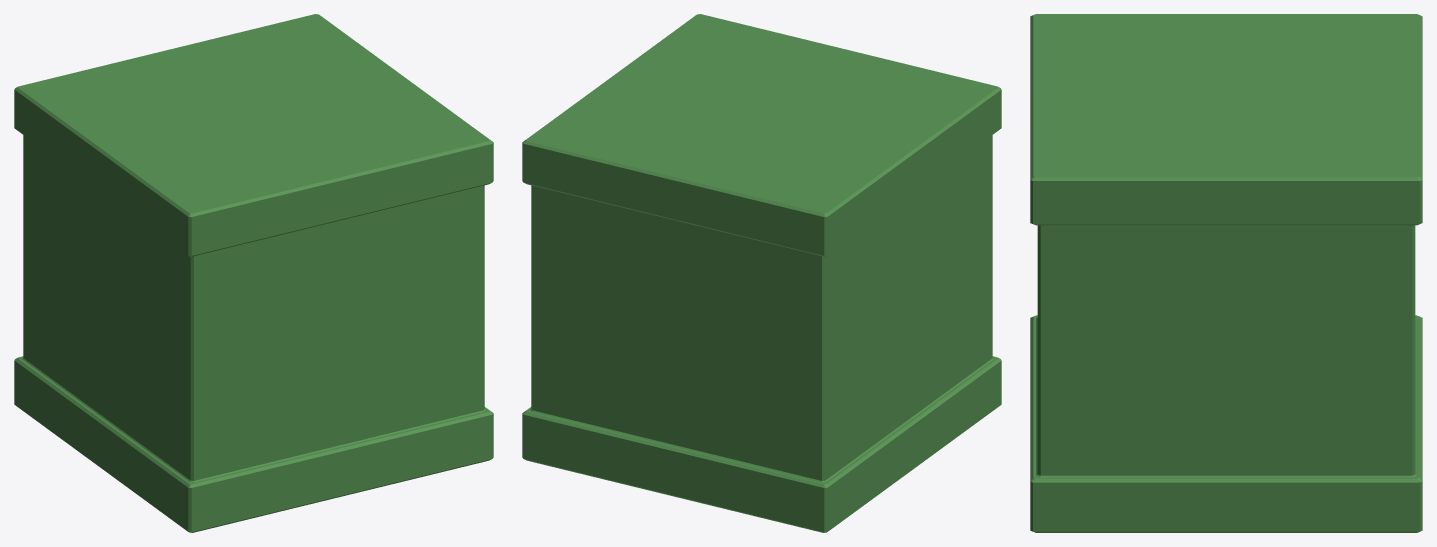
The model's file is Large_Boxe.fbx.
The picture shows the model from 3 angles, left to right: view 1: azimuth 30°, elevation 25°; view 2: azimuth 150°, elevation 25°; view 3: azimuth 270°, elevation 25°; orthographic projection. The views are drawn at different scales.
Visible parts, largest first — view 1: Large_Boxe; view 2: Large_Boxe; view 3: Large_Boxe.
Boxes of the visible parts, x1,y1,x2,y2 form: Large_Boxe: (14,14,493,532); Large_Boxe: (522,14,1001,532); Large_Boxe: (1030,14,1422,532).
Size of the model in its own units: 0.7542 by 0.7542 by 0.7542.
